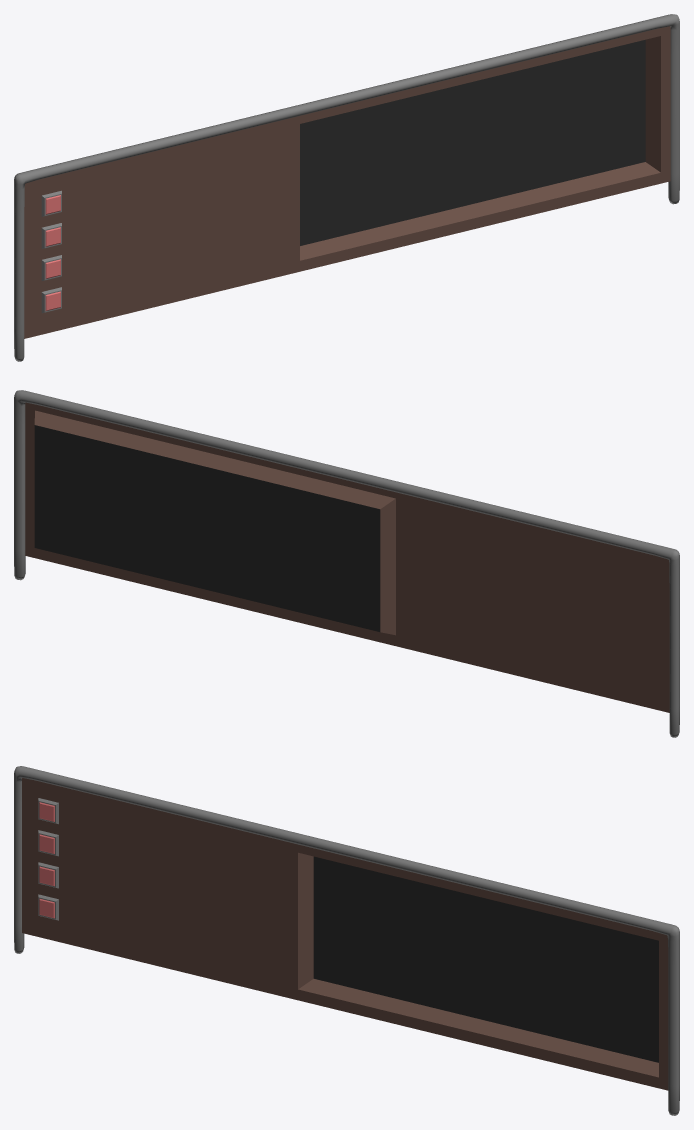
The model's file is dashboard.glb.
3 views of the same model, one above another, from view 1: azimuth 30°, elevation 25°; view 2: azimuth 150°, elevation 25°; view 3: azimuth 330°, elevation 25° (orthographic).
Parts seen in each view (by area): view 1: Dashboard, Border; view 2: Dashboard, Border; view 3: Dashboard, Border.
Part boxes in pixels (left/top/right/bottom): Dashboard: left=24, top=26, right=670, bottom=338; Border: left=14, top=14, right=679, bottom=361; Dashboard: left=25, top=402, right=669, bottom=712; Border: left=14, top=390, right=679, bottom=737; Dashboard: left=22, top=778, right=668, bottom=1090; Border: left=14, top=766, right=679, bottom=1115.
Size of the model in its own units: 649 by 176 by 17.37.
